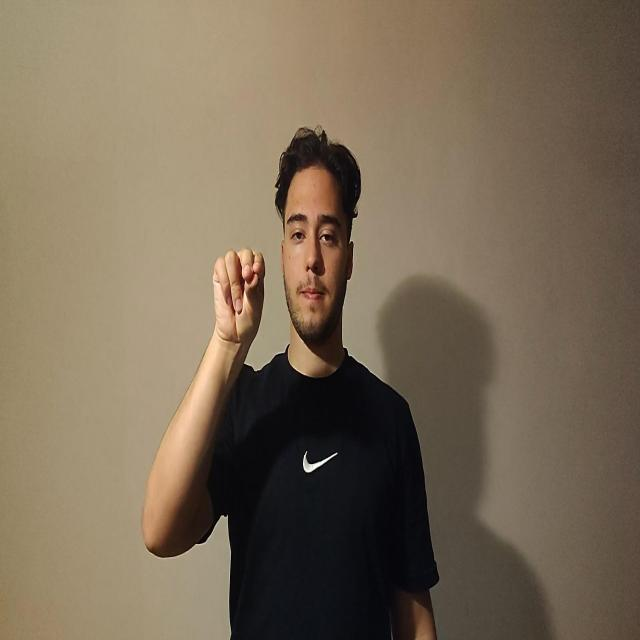no: (212, 247, 265, 347)
